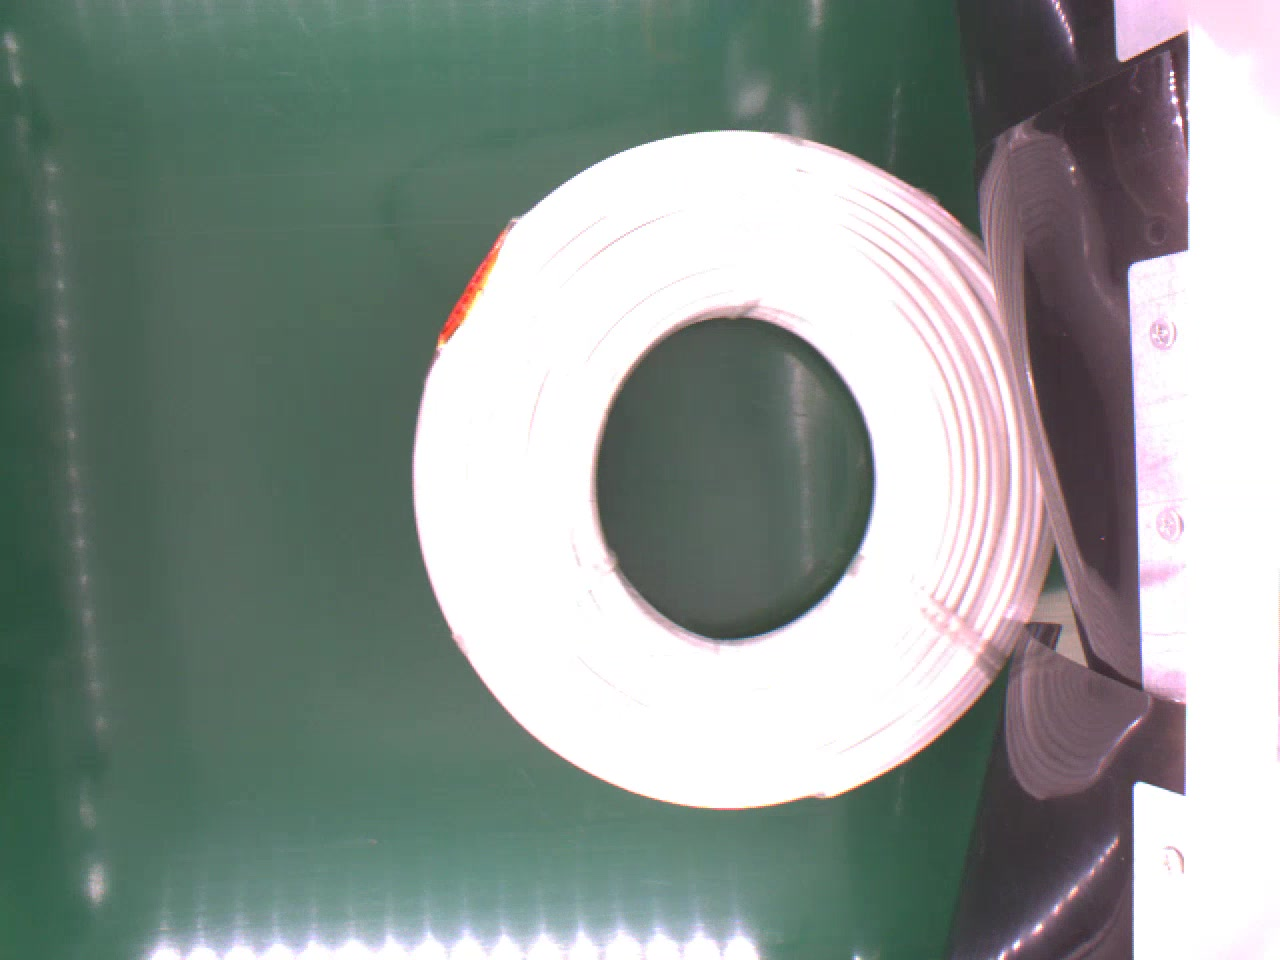white: (408, 127, 1058, 815)
